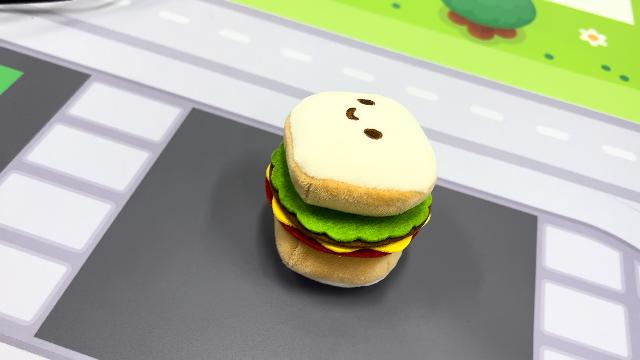sandwich: (262, 88, 440, 290)
